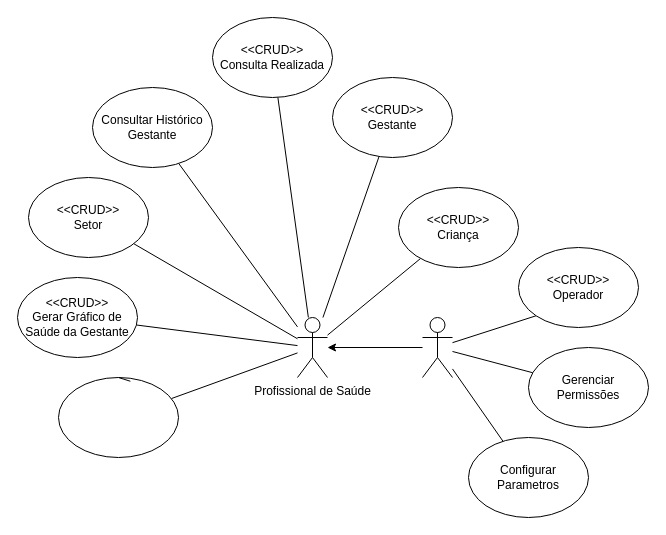
This 666x535 diagram has some shape labels left out. Here are the shapes that lost their labels. From the top down, the centre of each, then its label:
(437,347): Admin
(118,417): Gerar Relatório de Gestantes
